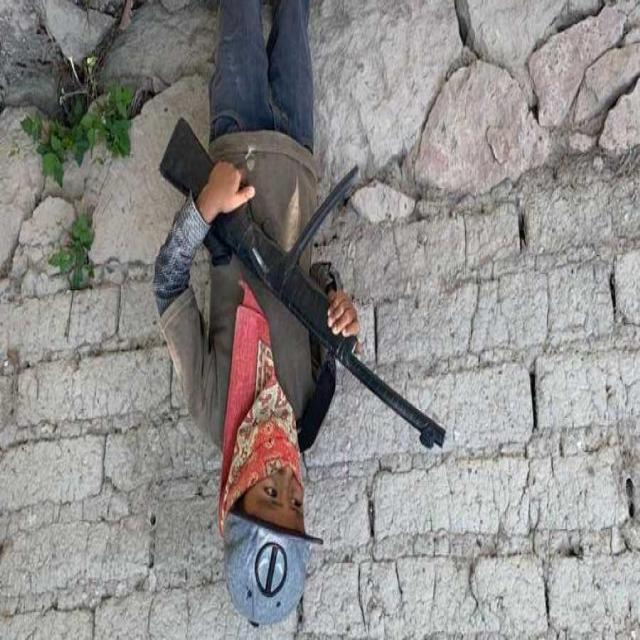weapon: (159, 116, 448, 452)
